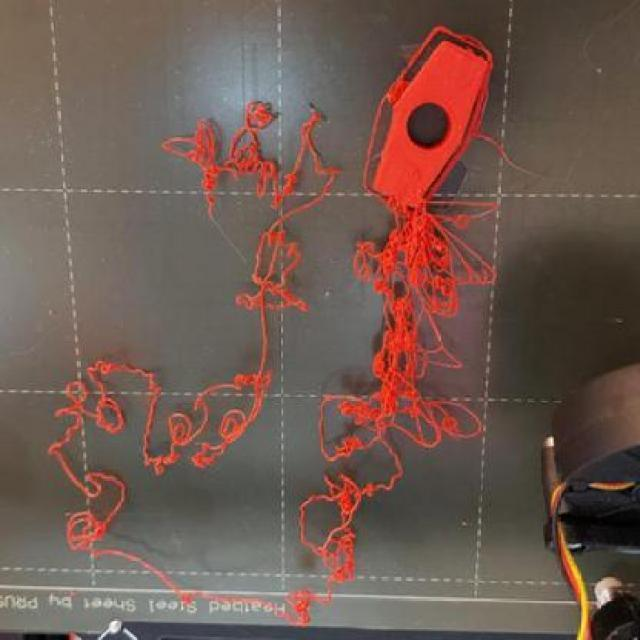spaghetti: (41, 95, 514, 631)
